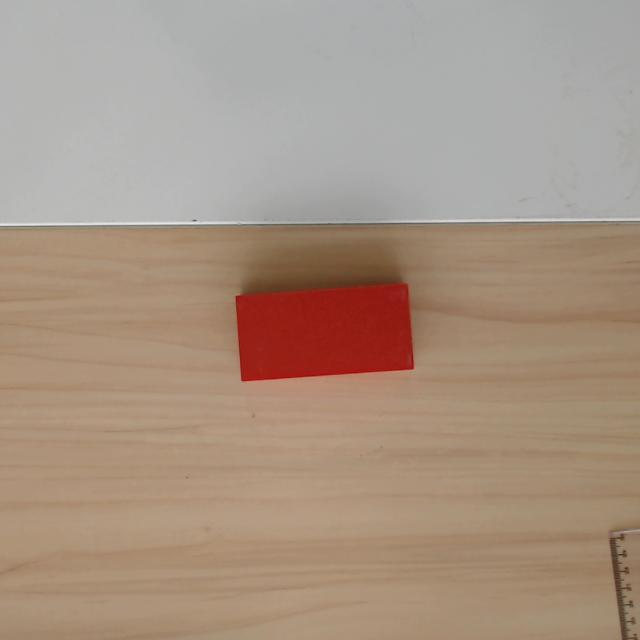Balok-Merah-1005025: (234, 282, 415, 383)
